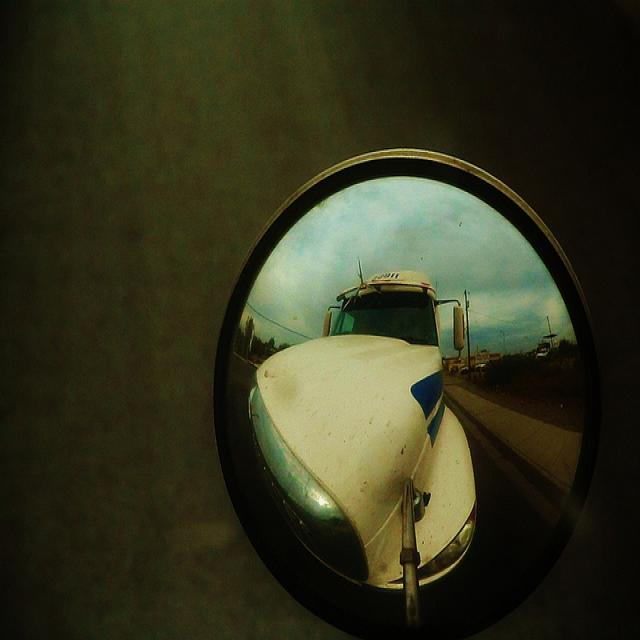Vehicle: (248, 264, 490, 598)
